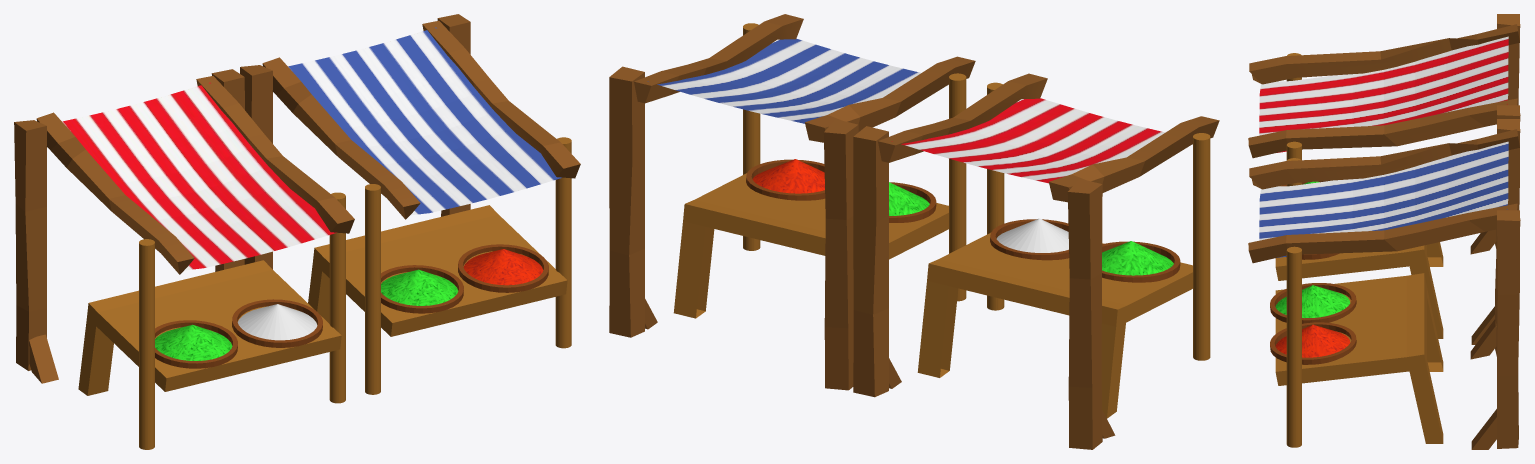
The model's file is tenant V2.fbx.
The picture shows the model from 3 angles, left to right: view 1: azimuth 30°, elevation 25°; view 2: azimuth 150°, elevation 25°; view 3: azimuth 270°, elevation 25°; orthographic projection. The views are drawn at different scales.
Parts seen in each view (by area): view 1: 1, 2, nampan t2, nampan t1, nampan t1.001, nampan t2.001; view 2: 1, 2, nampan t1, nampan t1.001, nampan t2, nampan t2.001; view 3: 2, 1, nampan t2, nampan t2.001.
Boxes of the visible parts, x1,y1,x2,y2 form: 1: (14, 69, 354, 449); 2: (240, 14, 580, 394); nampan t2: (458, 244, 548, 292); nampan t1: (232, 299, 322, 347); nampan t1.001: (155, 320, 237, 368); nampan t2.001: (381, 265, 463, 313); 1: (853, 73, 1219, 449); 2: (609, 14, 975, 390); nampan t1: (990, 218, 1069, 260); nampan t1.001: (1102, 241, 1180, 282); nampan t2: (746, 159, 825, 200); nampan t2.001: (889, 182, 936, 222); 2: (1248, 119, 1520, 449); 1: (1248, 14, 1520, 344); nampan t2: (1270, 322, 1356, 364); nampan t2.001: (1270, 283, 1356, 323).
Bounding box in the file's own units: 4264 × 2235 × 2365.
